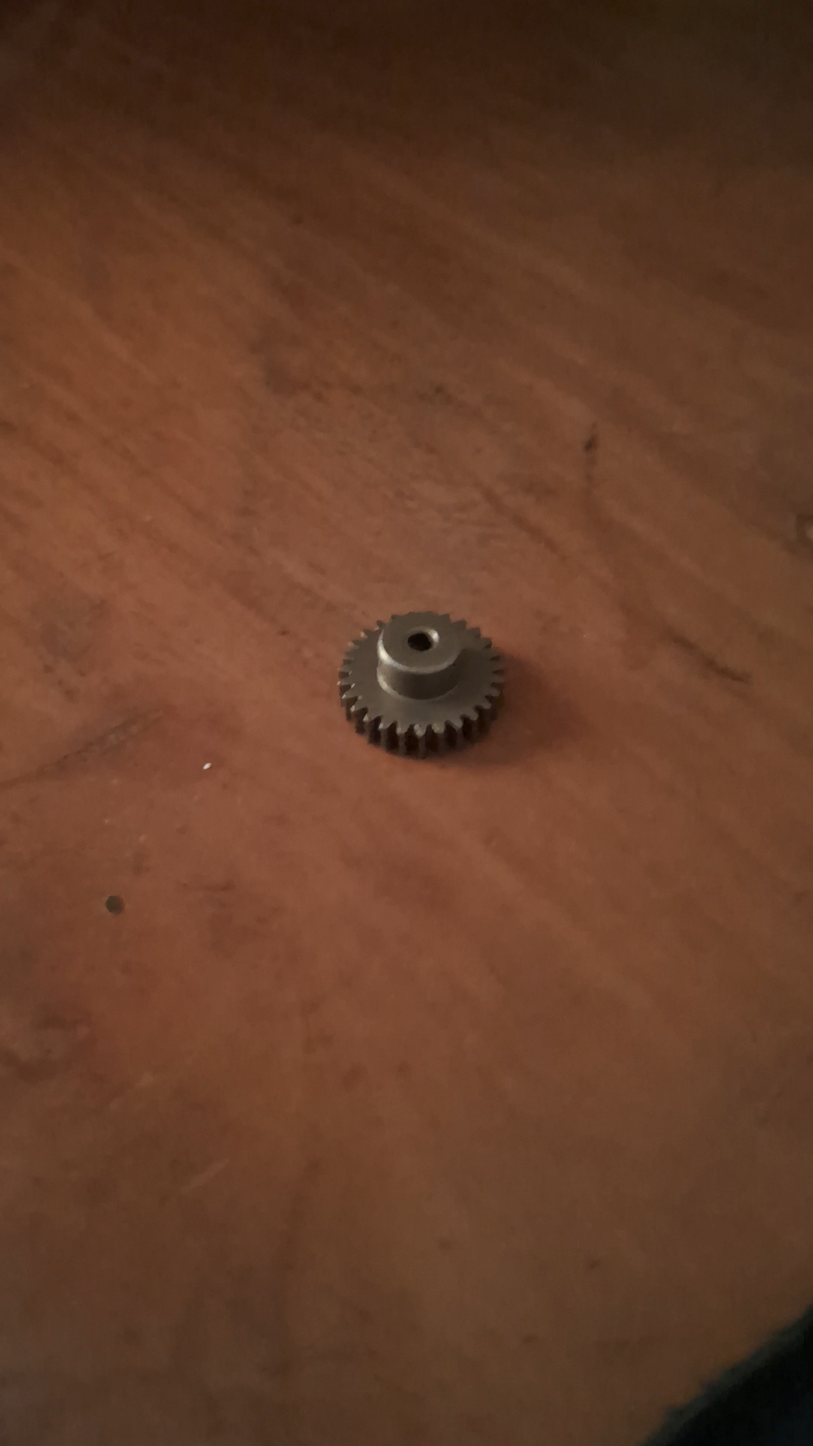spur gear: (339, 612, 503, 756)
